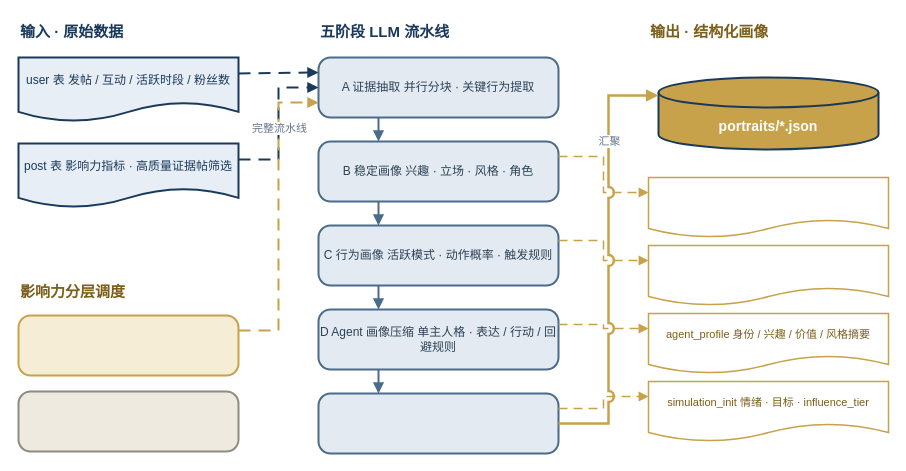
The diagram is 906 pixels wide and 471 high, and some of its shapes have lost their labels. The shapes that lost their labels are listed below. From the top down, each one's centre as x and y in pixels, then its label:
point (768, 207): stable_profile 兴趣 · 立场 · 风格 · 角色
point (768, 275): behavior_profile 活跃模式 · 动作偏好 · 触发规则
point (128, 345): L4–L5 高影响力 完整五阶段流水线
point (128, 421): L1–L3 普通用户 simple profile · 行为库
point (438, 423): E 模拟初始状态 情绪 · 目标 · 关注话题
